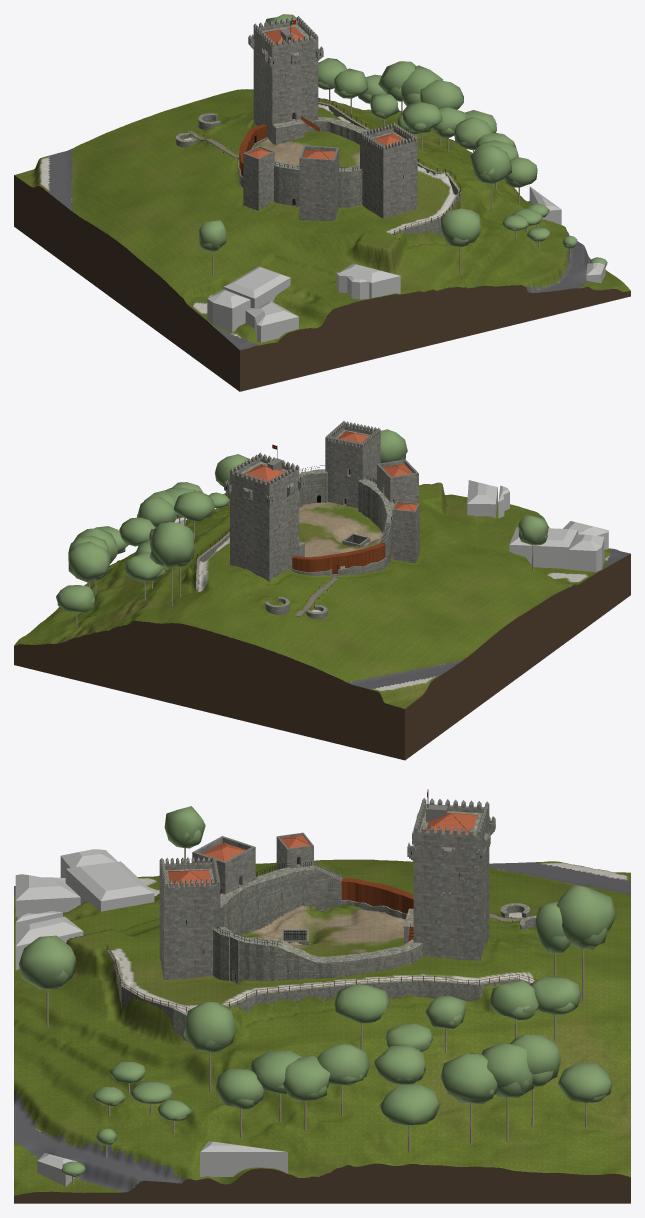
The model's file is montalegre.glb.
The picture shows the model from 3 angles, top to bottom: view 1: azimuth 30°, elevation 25°; view 2: azimuth 150°, elevation 25°; view 3: azimuth 270°, elevation 25°; orthographic projection. The views are drawn at different scales.
Visible parts, largest first — view 1: Terreno, base, arvores, torre_menagem, envolvente, torre_se, cerca, torre_s, torre_so, barbaca, corredor_corten, ruinas; view 2: Terreno, base, arvores, torre_menagem, envolvente, torre_se, cerca, corredor_corten, torre_so, torre_s, ruinas, torre_telhado; view 3: Terreno, arvores, base, torre_menagem, envolvente, cerca, torre_se, barbaca, corredor_corten, torre_s, escada_adarve, vedacao (+2 smaller).
Boxes of the visible parts, x1,y1,x2,y2 form: Terreno: [14, 89, 630, 349]; base: [14, 175, 630, 391]; arvores: [199, 14, 607, 276]; torre_menagem: [248, 16, 323, 145]; envolvente: [207, 186, 605, 342]; torre_se: [360, 122, 417, 218]; cerca: [274, 117, 367, 207]; torre_s: [299, 145, 339, 220]; torre_so: [243, 146, 274, 210]; barbaca: [318, 102, 460, 237]; corredor_corten: [237, 124, 267, 186]; ruinas: [176, 113, 220, 147]; Terreno: [14, 482, 630, 708]; base: [14, 554, 630, 760]; arvores: [56, 429, 548, 628]; torre_menagem: [224, 452, 305, 582]; envolvente: [174, 480, 608, 571]; torre_se: [325, 421, 380, 508]; cerca: [299, 469, 394, 553]; corredor_corten: [291, 542, 386, 577]; torre_so: [392, 501, 419, 563]; torre_s: [377, 459, 418, 503]; ruinas: [265, 596, 327, 619]; torre_telhado: [243, 458, 284, 483]; Terreno: [14, 859, 630, 1195]; arvores: [19, 806, 616, 1184]; base: [14, 1163, 630, 1203]; torre_menagem: [403, 798, 495, 961]; envolvente: [15, 849, 287, 1186]; cerca: [213, 866, 422, 983]; torre_se: [159, 856, 220, 980]; barbaca: [107, 950, 531, 1041]; corredor_corten: [340, 878, 413, 919]; torre_s: [192, 836, 255, 894]; escada_adarve: [313, 860, 342, 910]; vedacao: [106, 945, 536, 1012].
Size of the model in its own units: 113 by 56.71 by 110.
22 materials, 5 textured.
